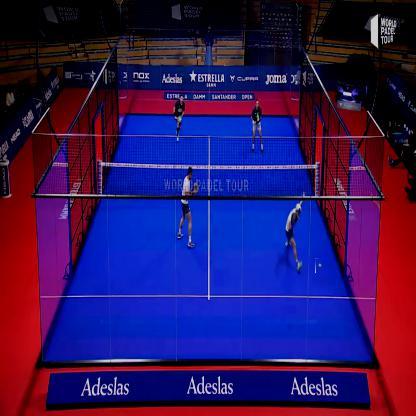ball: (316, 258, 324, 274)
